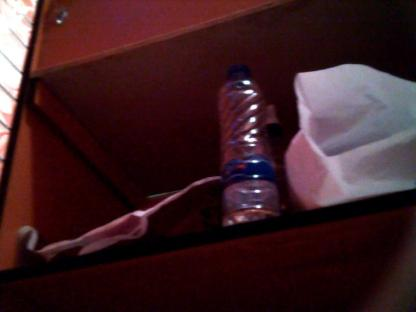Plastic Bottle: (212, 57, 284, 234)
